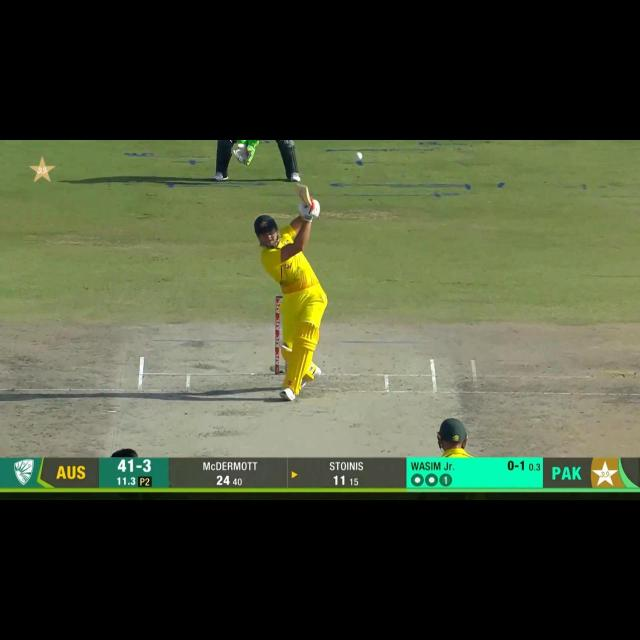bat: (294, 182, 313, 208)
toe: (296, 183, 308, 190)
